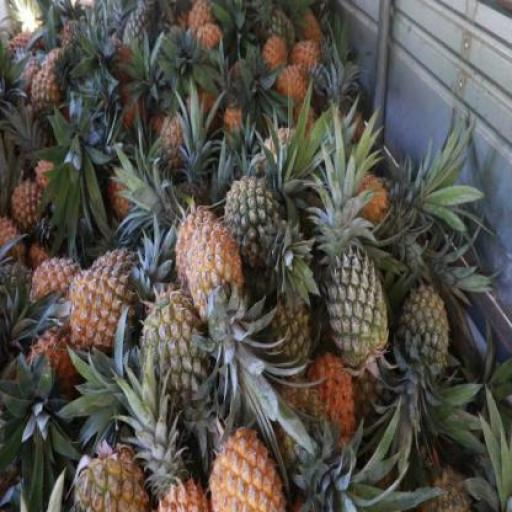------------------------------: (140, 289, 211, 399), (224, 177, 288, 275), (73, 443, 146, 512), (30, 66, 64, 124)
Pineapple - v8 v1: (67, 254, 137, 356), (208, 427, 286, 511), (190, 220, 249, 322), (176, 208, 224, 297), (33, 257, 80, 318), (10, 176, 48, 230)
